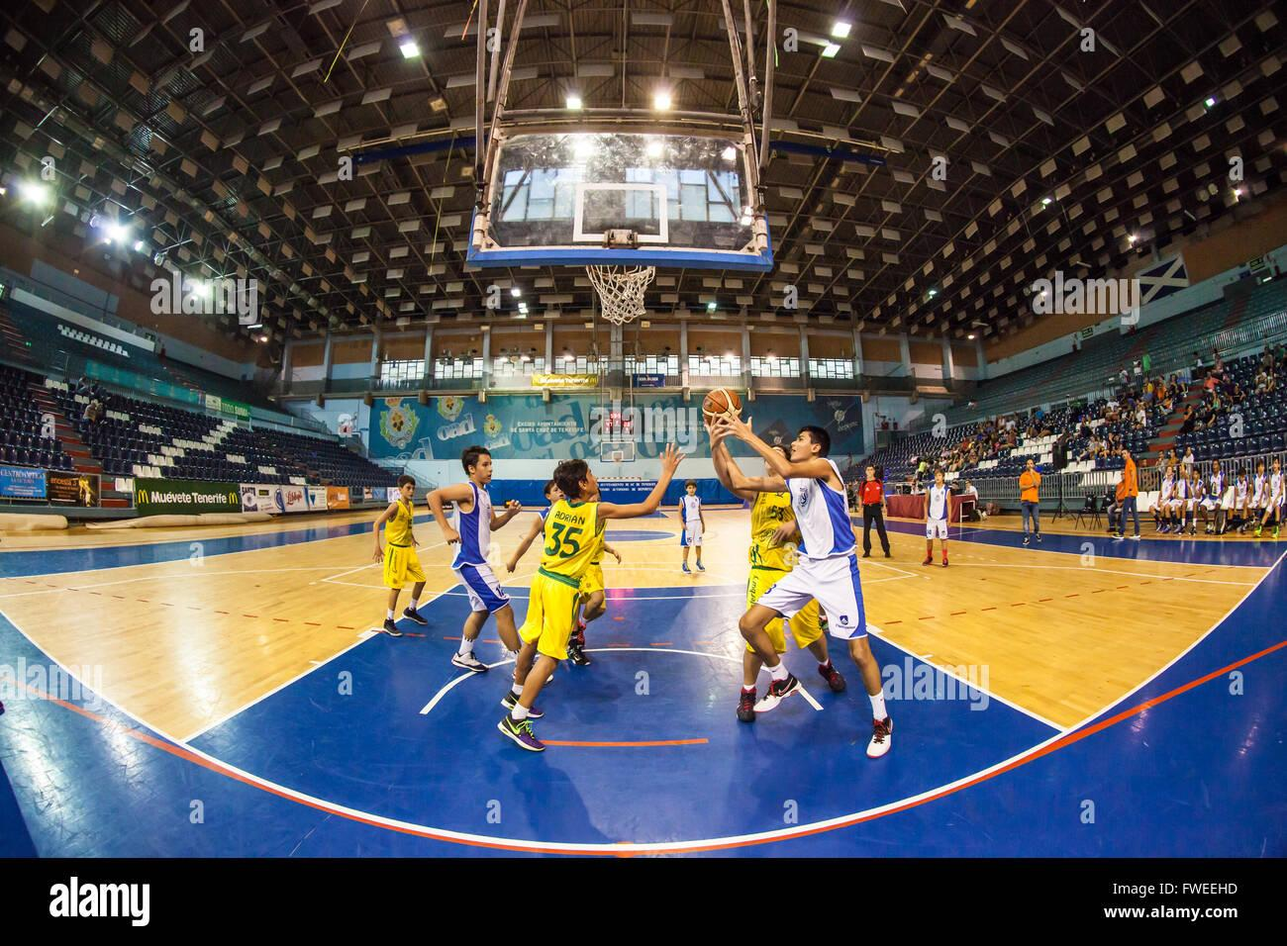basketball: (697, 380, 747, 433)
